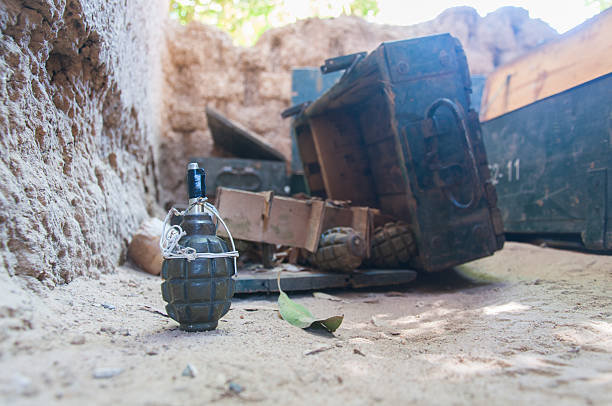e1: (152, 164, 240, 334)
